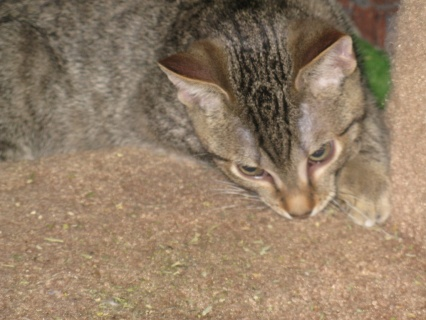Cat: (0, 0, 395, 233)
